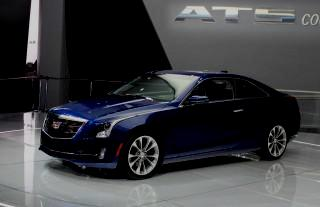cadillac: (49, 118, 66, 131)
